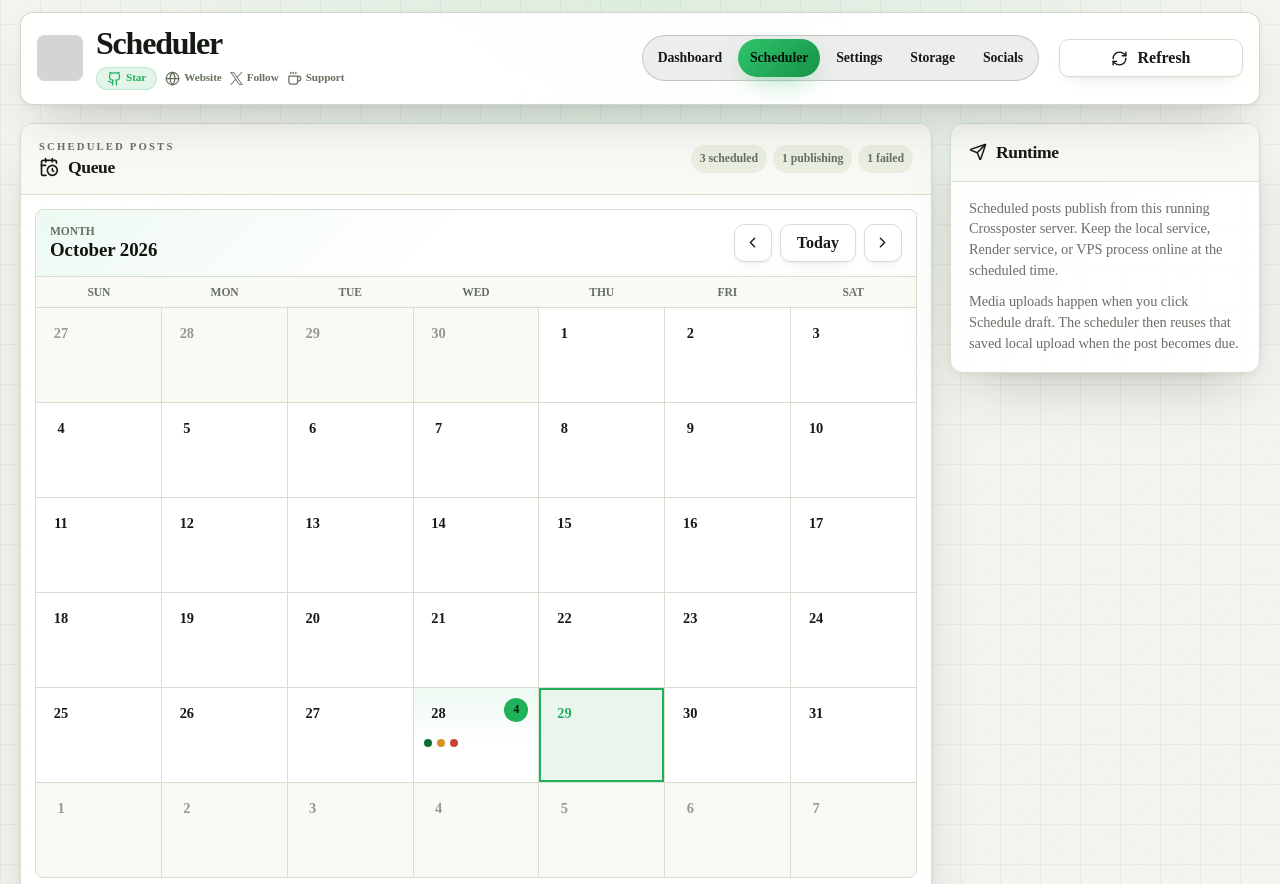
rejects empty timing without a request and discards by encoded ID
Click the button named "10/28/2026:" at (476, 735), box left=414, top=688, right=538, bottom=782
(page scrolled)
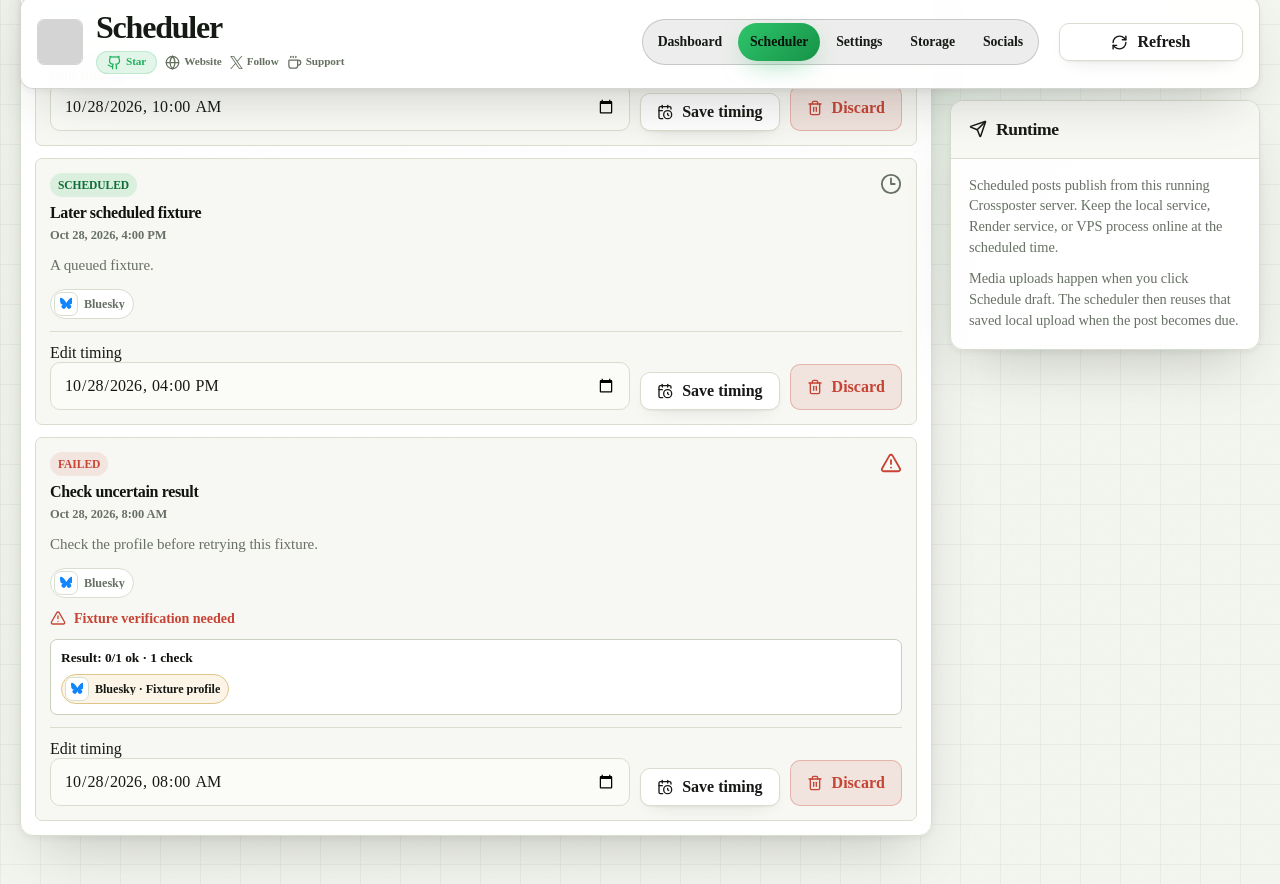
Clear the field labelled "Edit timing" below "· Fixture profile" at (340, 782), box left=50, top=758, right=630, bottom=806
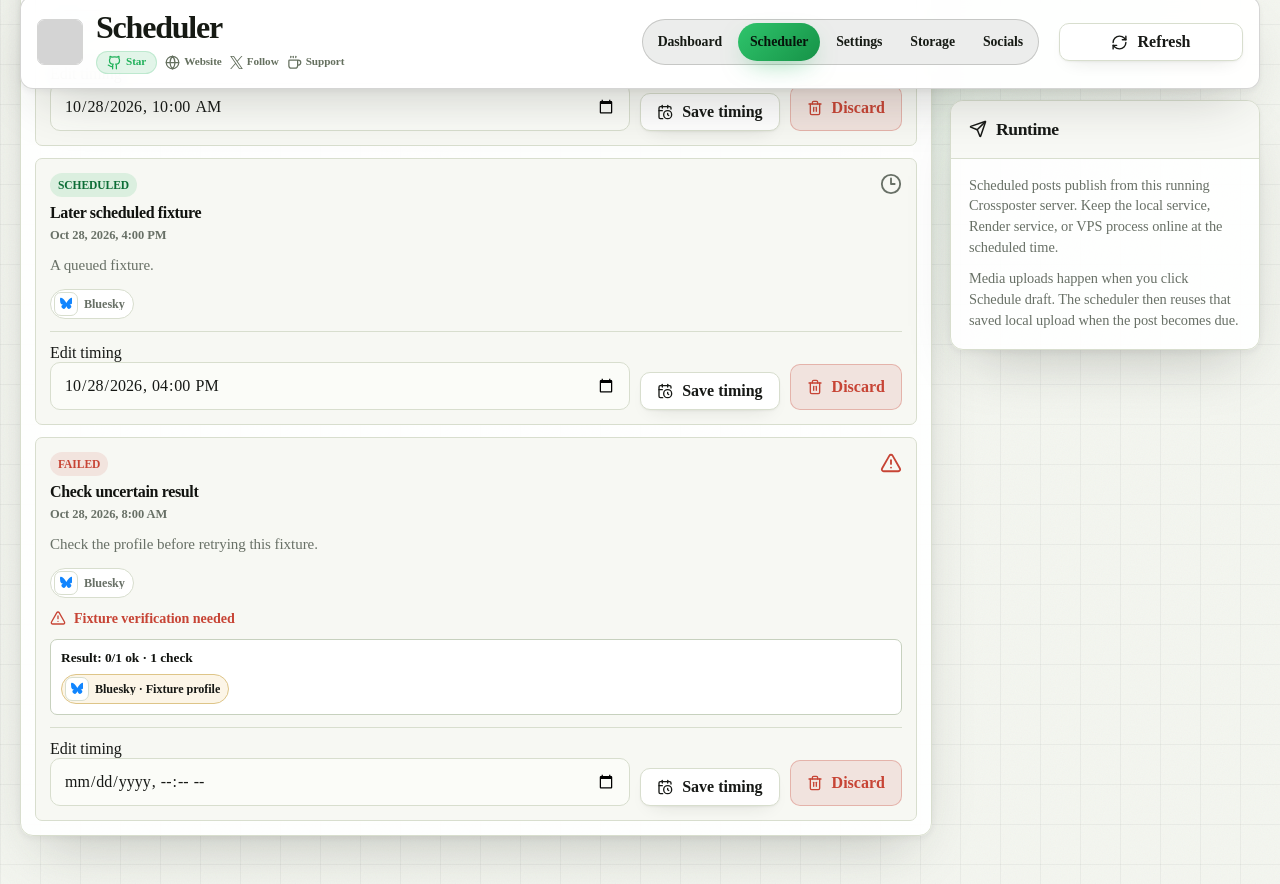
Click the 3rd button "Save timing" at (710, 787), box left=640, top=768, right=780, bottom=806
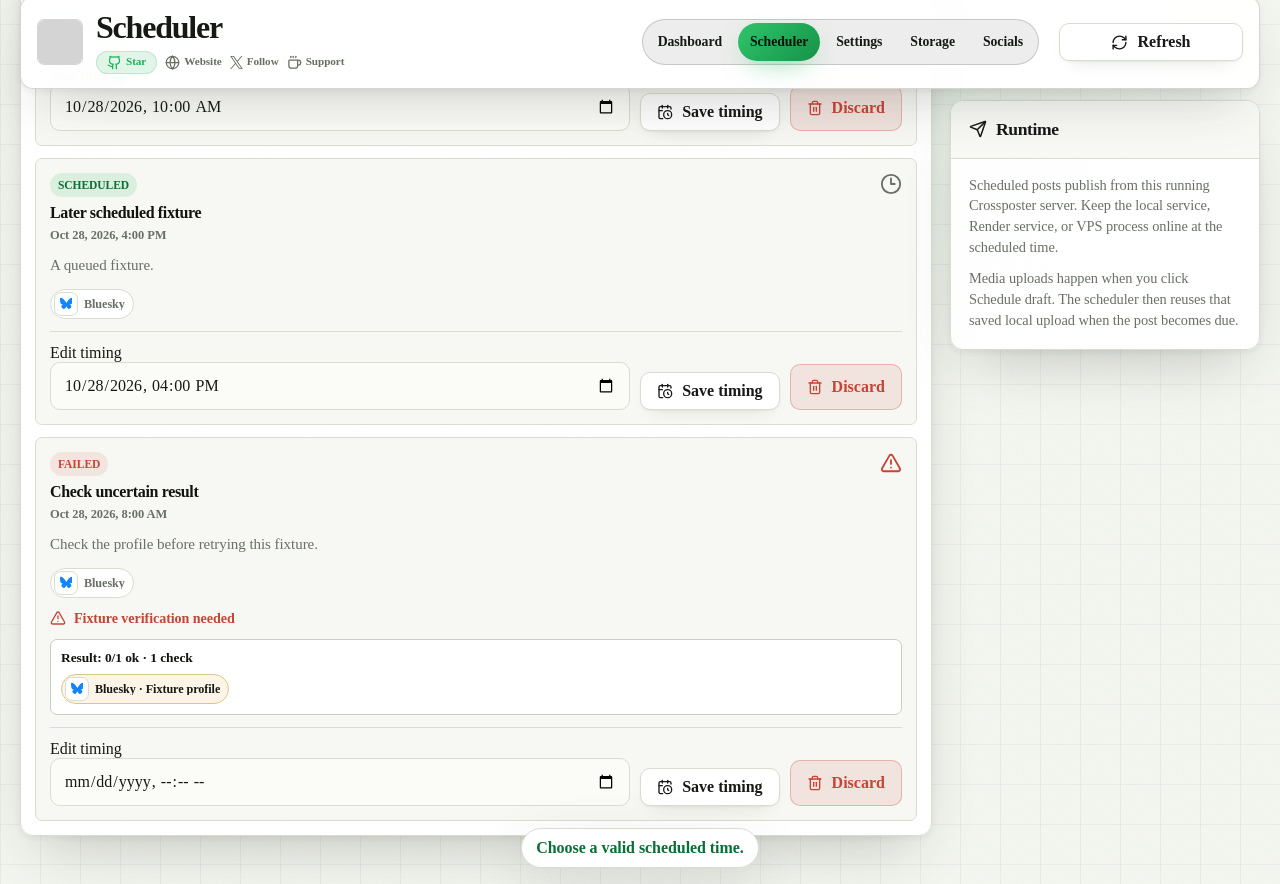
expect the text "Choose a valid scheduled time." is shown: met, box left=521, top=828, right=759, bottom=868
Click the 3rd button "Discard" at (846, 783), box left=790, top=760, right=902, bottom=806
(page scrolled)
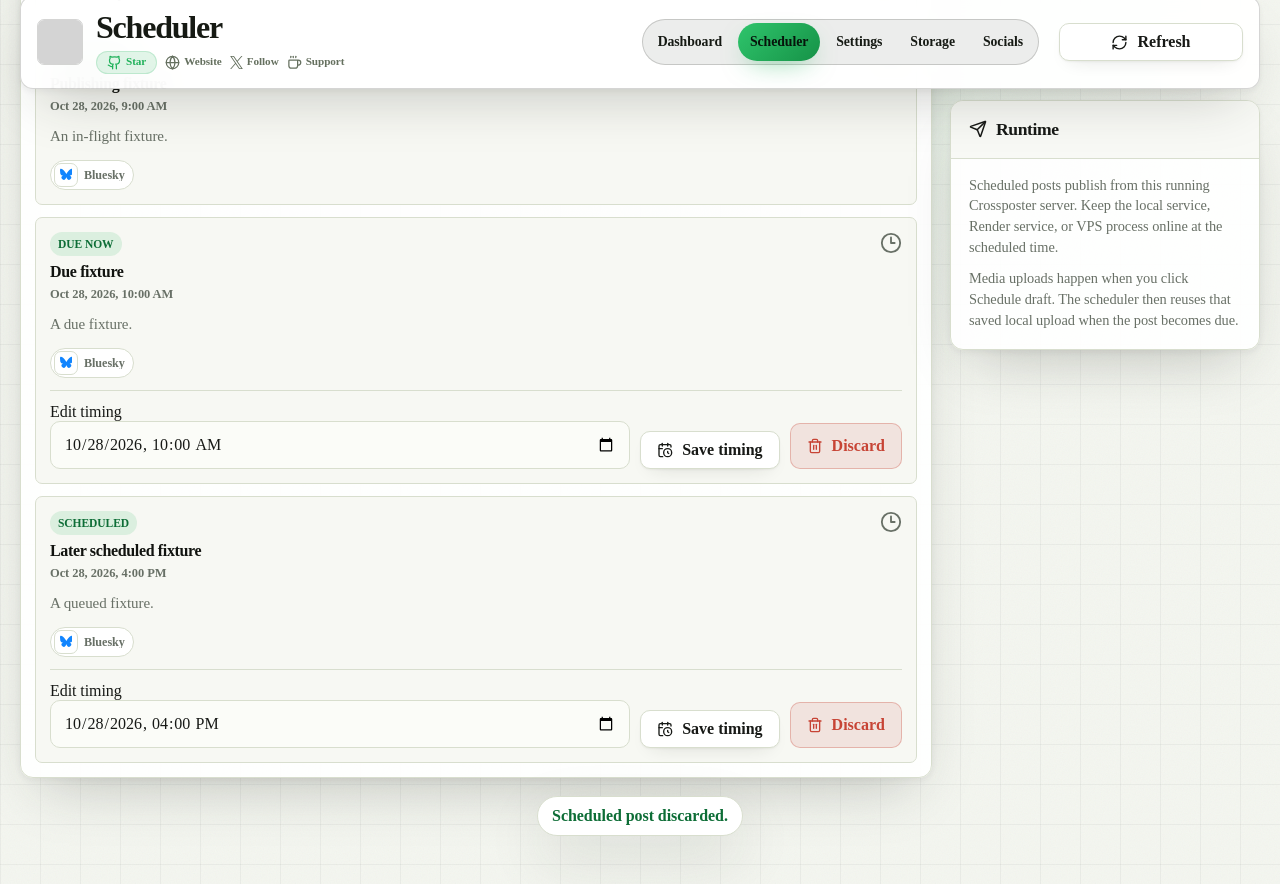
expect the text "Scheduled post discarded." is shown: met, box left=537, top=796, right=743, bottom=836
expect the heading "Check uncertain result" is gone: met
